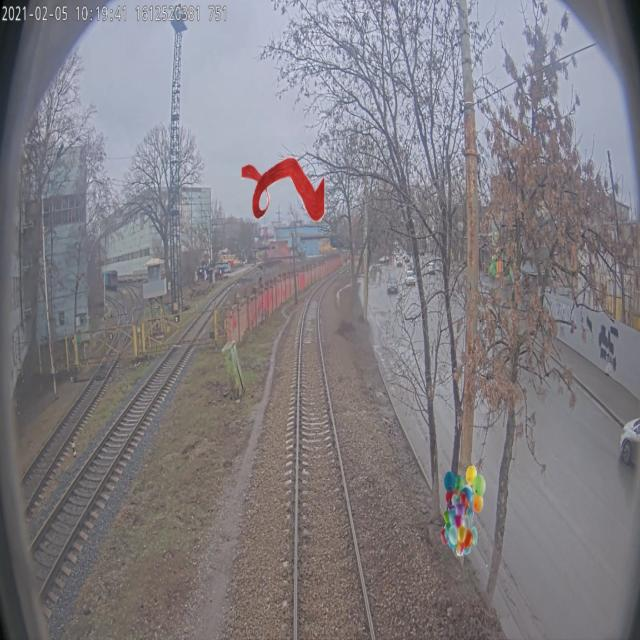balloon: (444, 465, 486, 529), (440, 492, 478, 556)
floating object: (242, 158, 325, 222)
